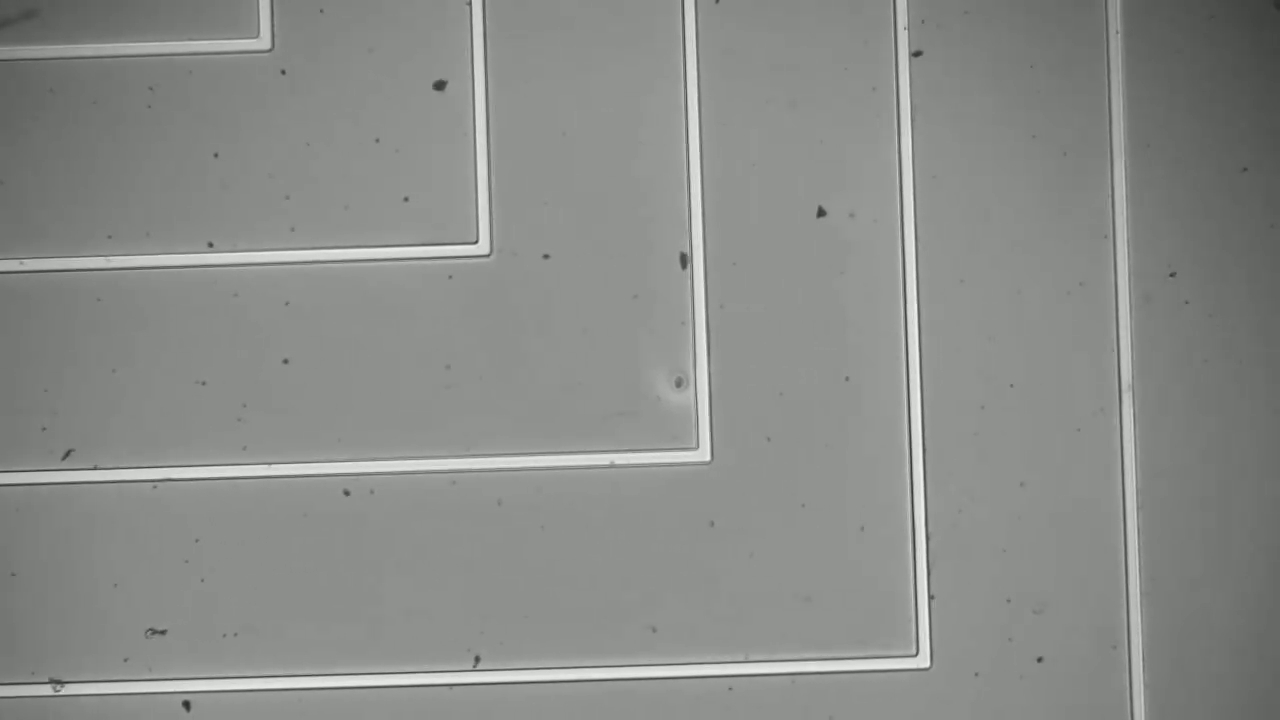stains_enbedded: (45, 670, 80, 704)
